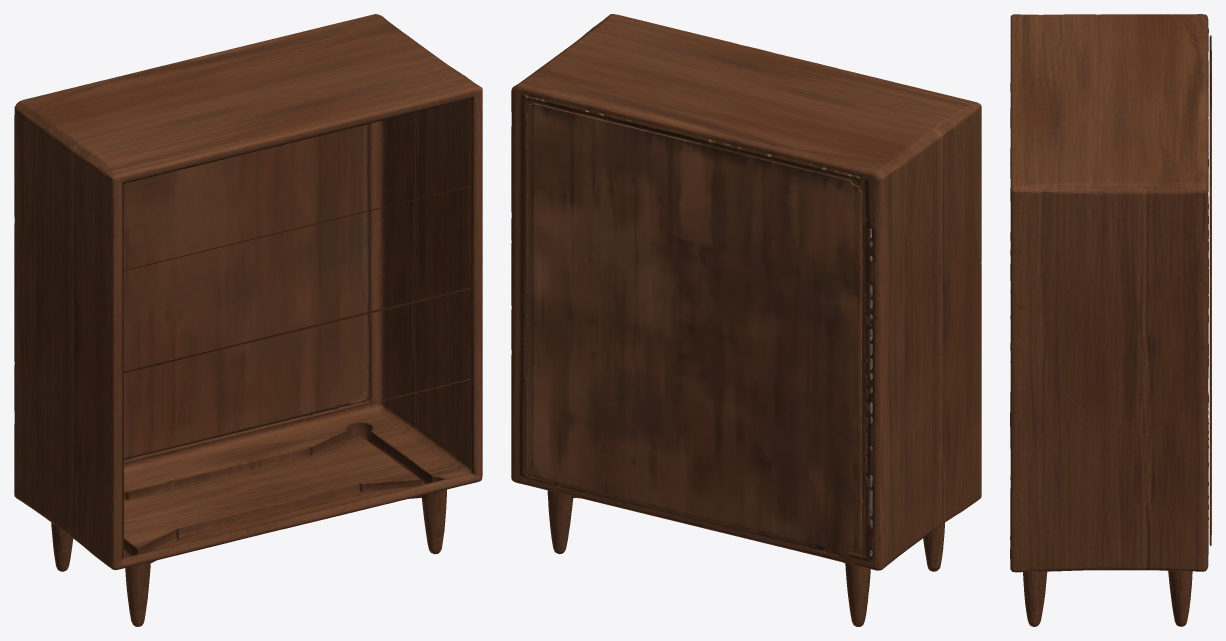
The model's file is body.glb.
3 renders of one model, left to right at view 1: azimuth 30°, elevation 25°; view 2: azimuth 150°, elevation 25°; view 3: azimuth 270°, elevation 25°, orthographic. The views are drawn at different scales.
Parts seen in each view (by area): view 1: source_surface_0; view 2: source_surface_0; view 3: source_surface_0.
Boxes of the visible parts, x1=… form: source_surface_0: x1=14, y1=14, x2=482, y2=626; source_surface_0: x1=511, y1=14, x2=981, y2=626; source_surface_0: x1=1010, y1=14, x2=1211, y2=626.
Size of the model in its own units: 0.8709 by 1.05 by 0.4205.
1 material, 1 textured.
